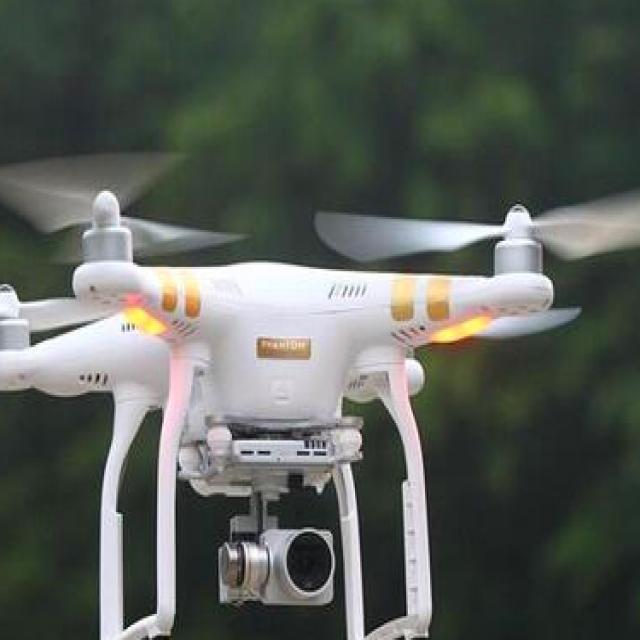drone: (0, 137, 640, 520)
